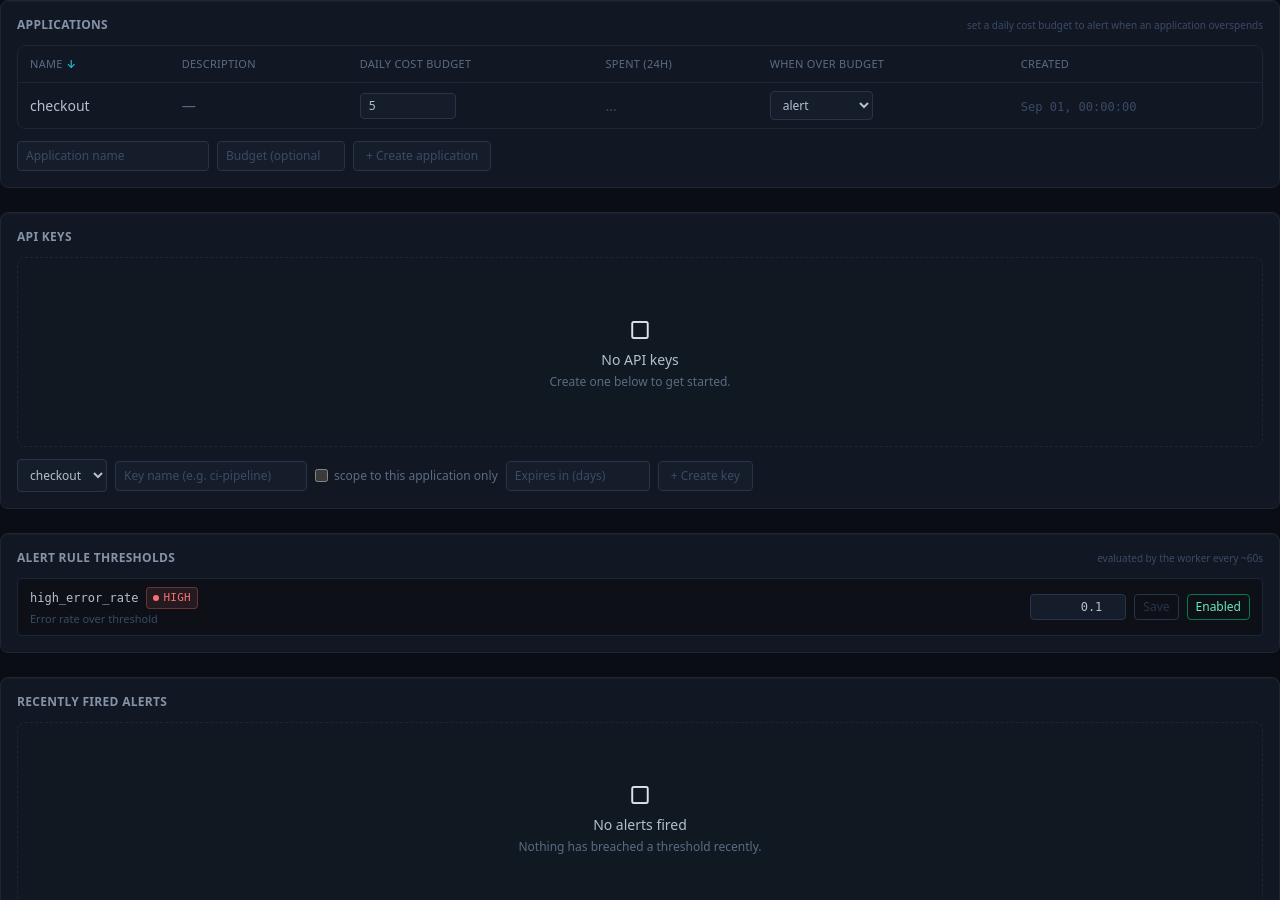
Test: Settings page › reports a failed rule update
Step 1. Click the button "Enabled" → (1218, 607), box [1186,594,1250,620]
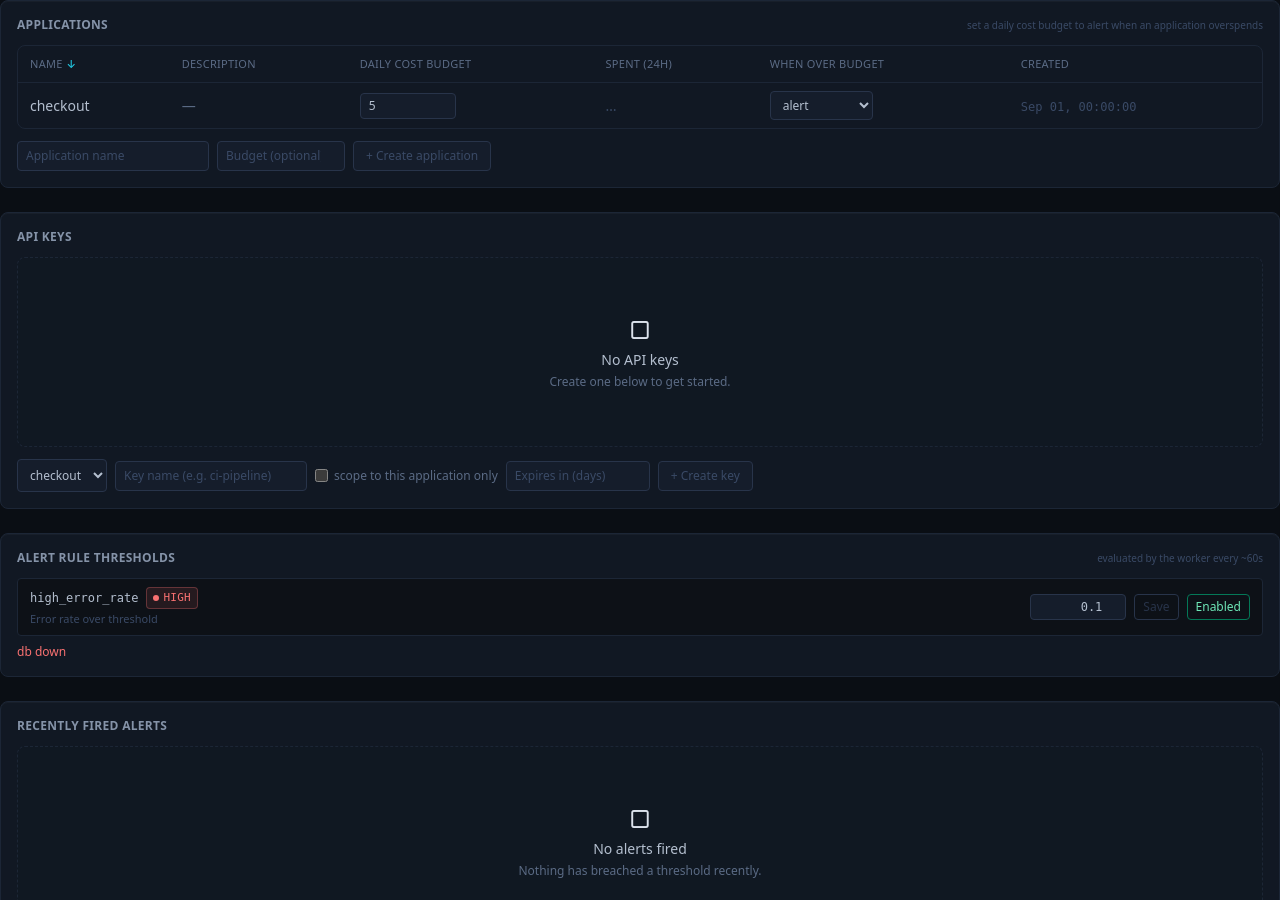
Expected: the text "db down" is shown, [17,643,66,660]
